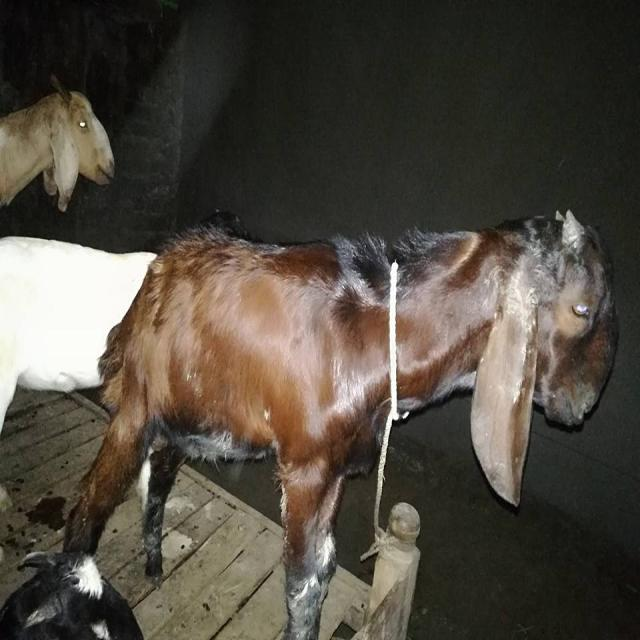not_pig: (55, 206, 620, 638), (0, 209, 254, 514), (0, 71, 115, 212), (0, 548, 144, 638)
